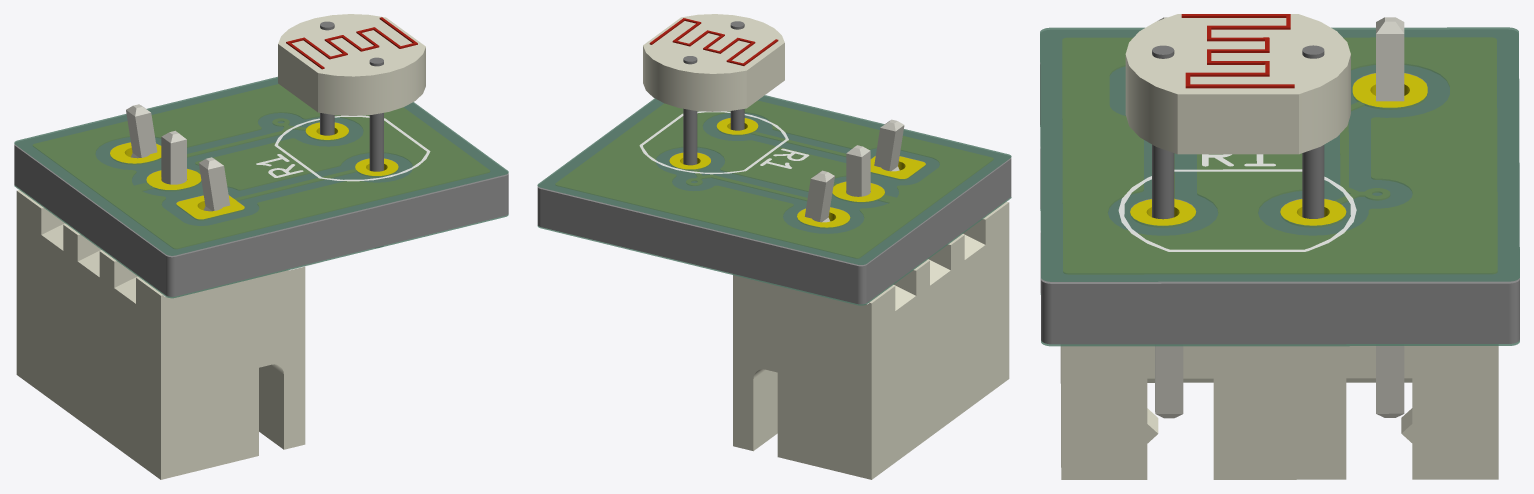
File: ldr9.glb
3 renders of one model, left to right at view 1: azimuth 30°, elevation 25°; view 2: azimuth 150°, elevation 25°; view 3: azimuth 270°, elevation 25°, orthographic. The views are drawn at different scales.
Parts seen in each view (by area): view 1: R1.001, R1.003, R1.002; view 2: R1.001, R1.003, R1.002; view 3: R1.001, R1.003, R1.002.
Part boxes in pixels (box(x1,y1,x2,y2)): R1.001: box(14, 76, 508, 298); R1.003: box(16, 104, 305, 479); R1.002: box(278, 14, 425, 247); R1.001: box(537, 95, 1011, 305); R1.003: box(733, 119, 1009, 479); R1.002: box(643, 14, 784, 165); R1.001: box(1040, 27, 1519, 346); R1.003: box(1060, 17, 1498, 479); R1.002: box(1125, 14, 1350, 219).
Size of the model in its own units: 89.59 by 82.94 by 71.05.
